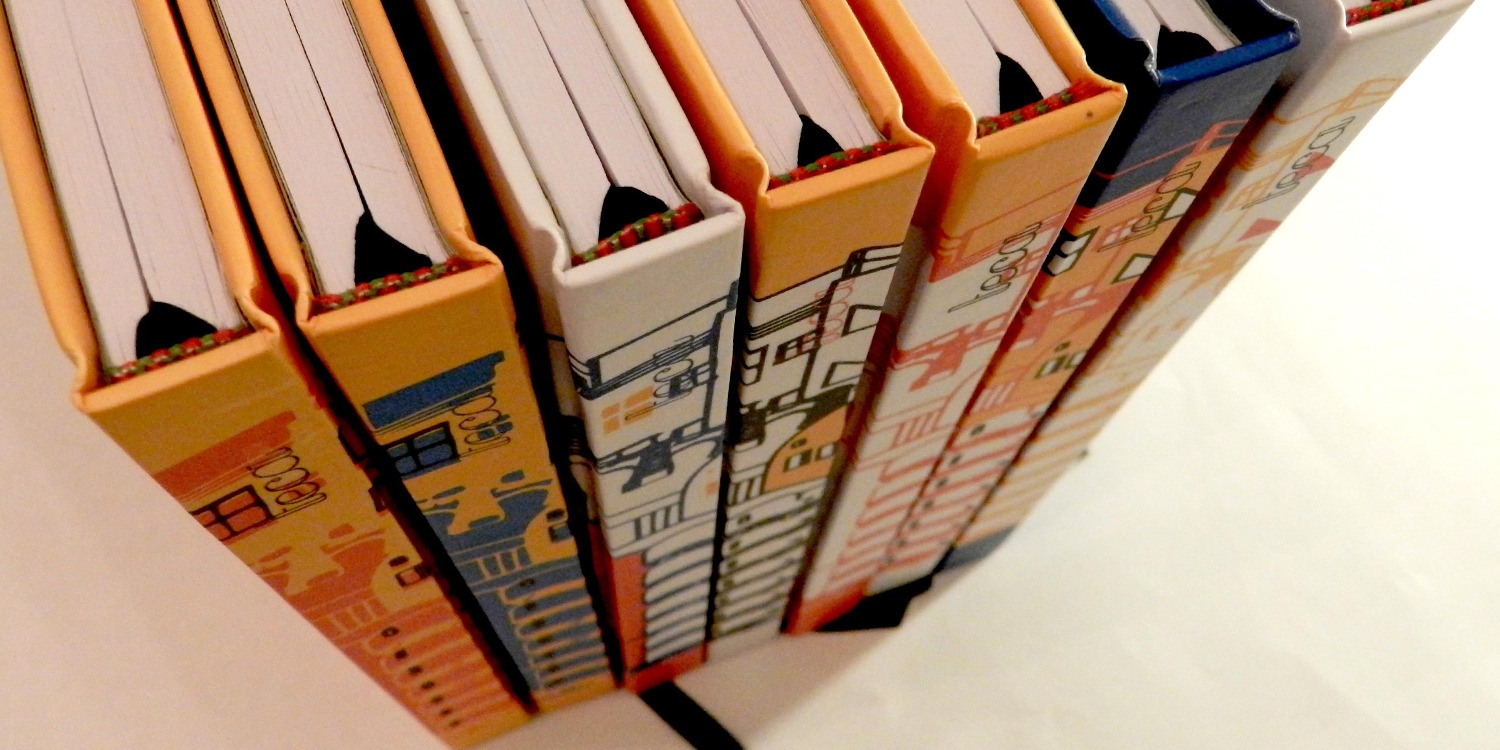buku: (2, 1, 1456, 750)
